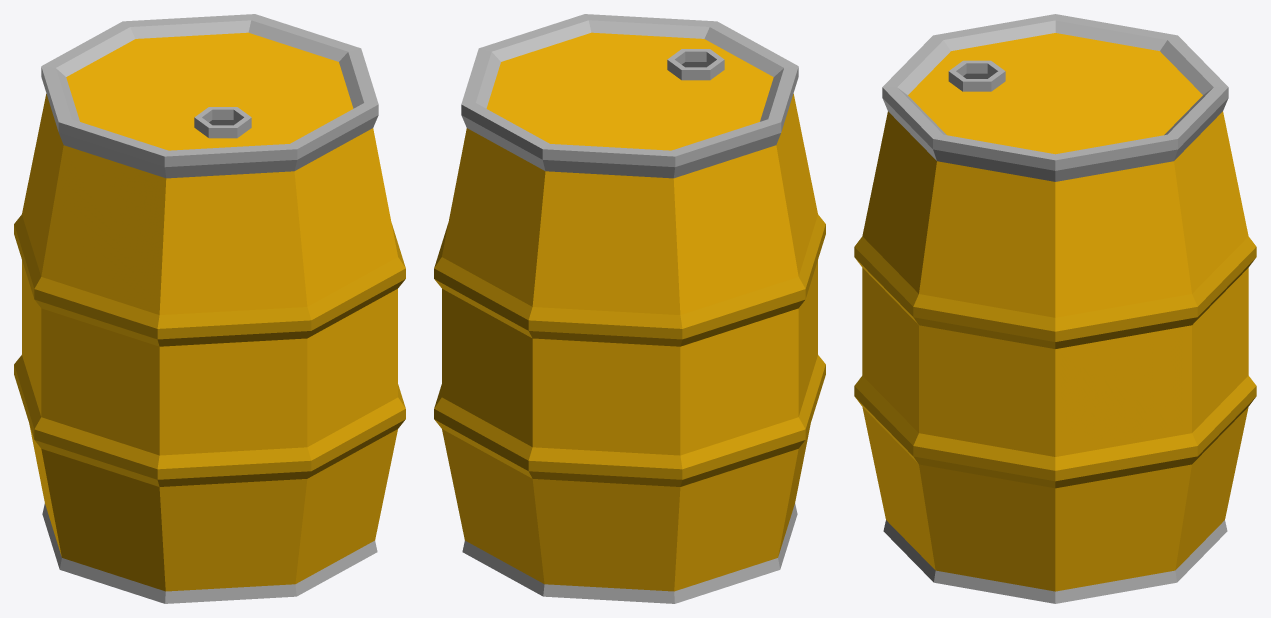
Rendered from Barrel Plastic Yellow.fbx.
3 renders of one model, left to right at view 1: azimuth 30°, elevation 25°; view 2: azimuth 150°, elevation 25°; view 3: azimuth 270°, elevation 25°, orthographic.
Parts seen in each view (by area): view 1: Barrel Plastic Yellow; view 2: Barrel Plastic Yellow; view 3: Barrel Plastic Yellow.
Boxes of the visible parts, left/top/right/bottom form: Barrel Plastic Yellow: left=14, top=14, right=405, bottom=603; Barrel Plastic Yellow: left=434, top=14, right=825, bottom=603; Barrel Plastic Yellow: left=854, top=14, right=1256, bottom=603.
Bounding box in the file's own units: 94.52 × 116 × 94.52.
